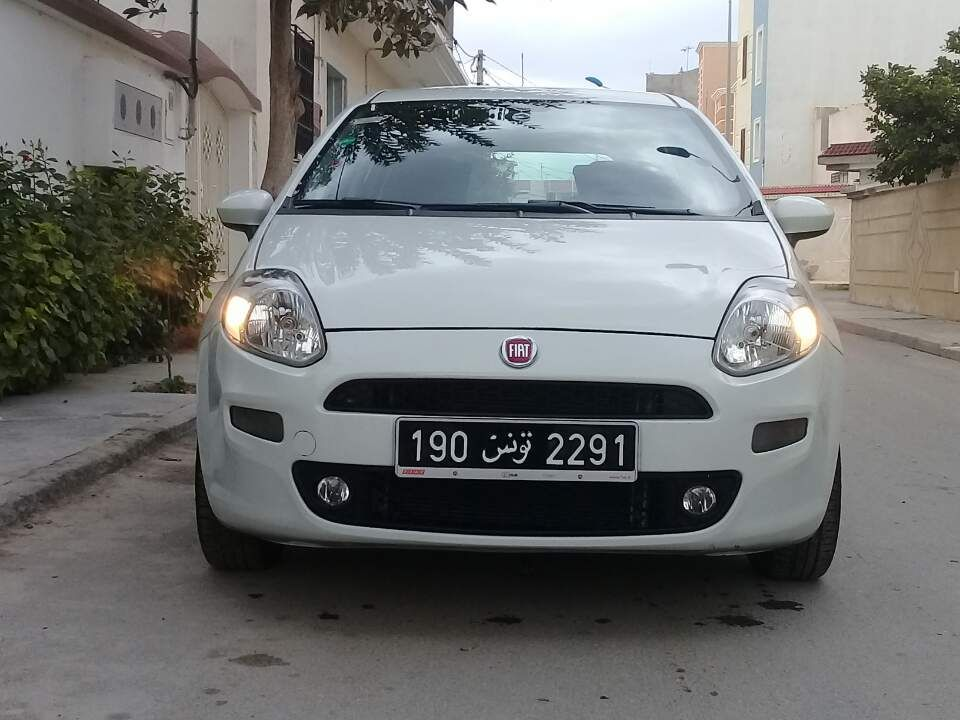LP: (395, 417, 638, 475)
